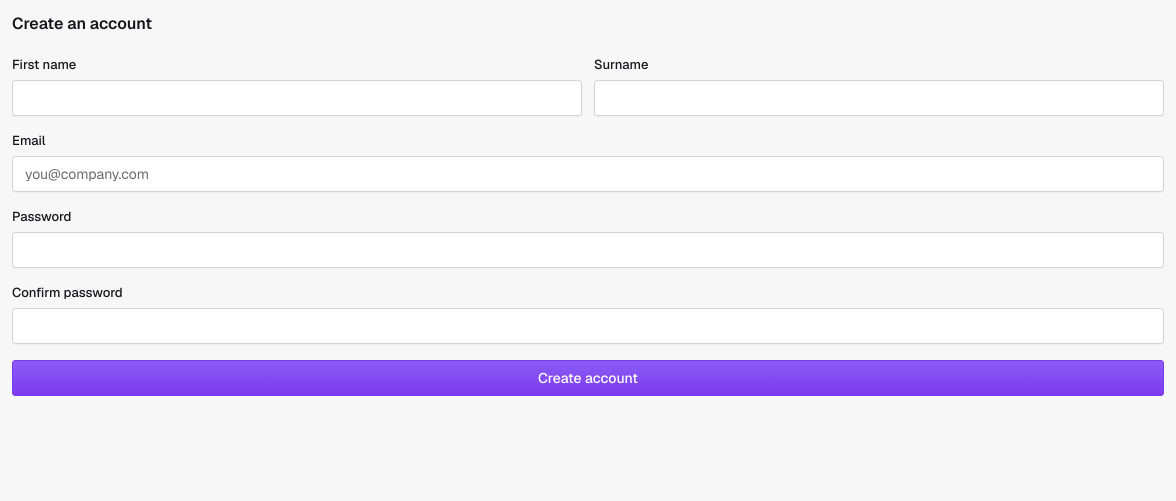
Test: SignUp › asks for the missing account details
This screenshot has width=1176, height=501.
Expected: the heading "Create an account" is shown, [12,13,152,34]
Click the button "Create account" at (588, 378), box [12,360,1164,396]
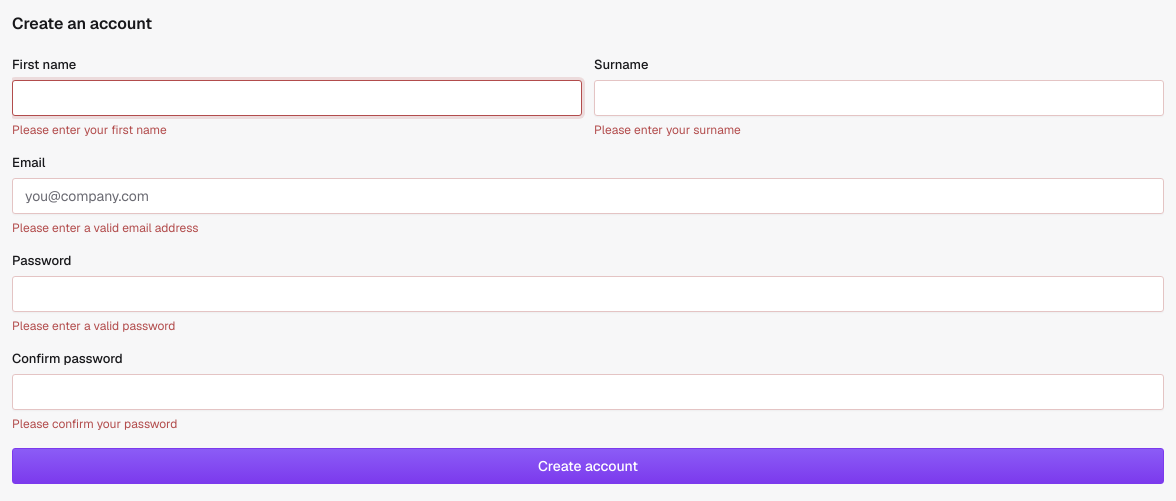
Result: the text "Please enter your first name" is shown at [12,122,167,138]
Result: the text "Please enter your surname" is shown at [594,122,741,138]
Result: the text "Please enter a valid email address" is shown at [12,220,199,236]
